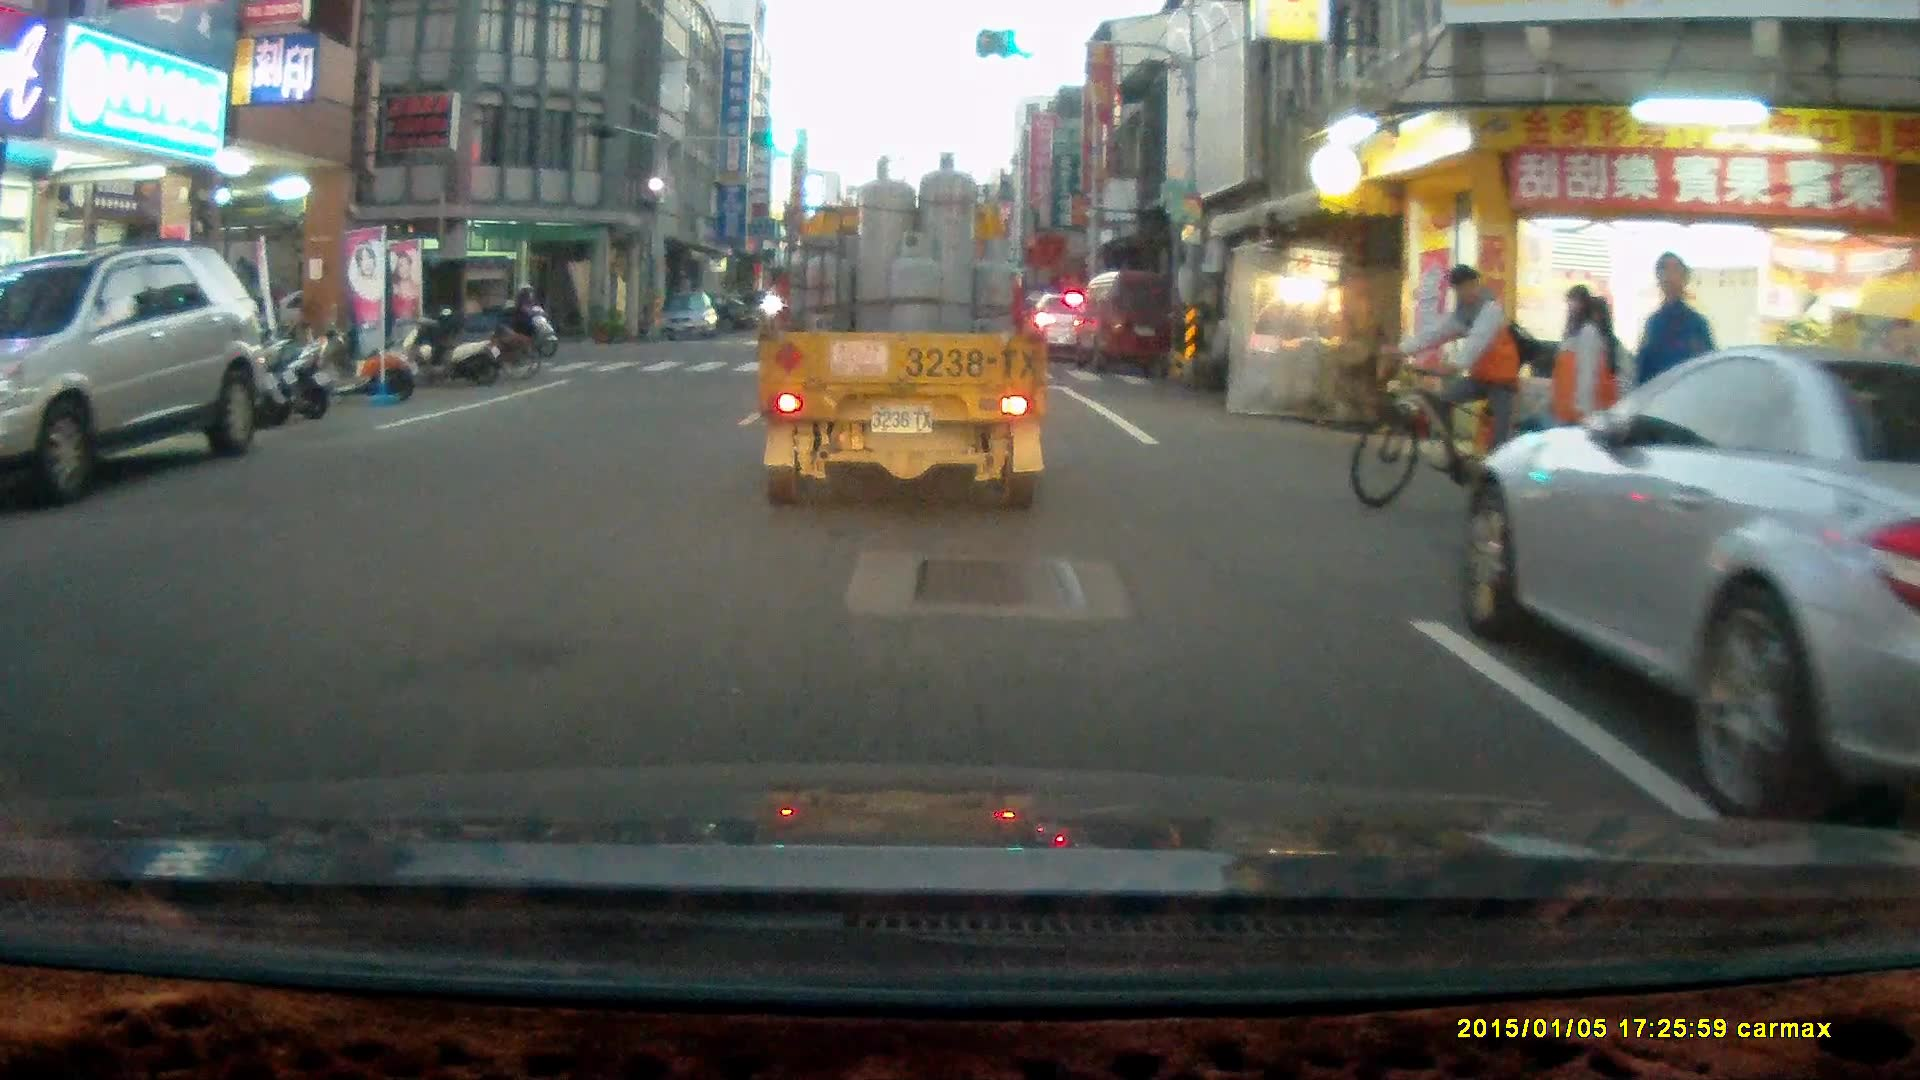pedestrian: (1632, 251, 1715, 531), (1551, 283, 1608, 504)
rider: (1350, 263, 1563, 515), (486, 282, 551, 365)
vehicle: (1459, 343, 1920, 815), (753, 161, 1040, 517), (1, 249, 267, 505), (333, 256, 509, 365), (1079, 267, 1180, 378), (1028, 294, 1095, 360), (655, 291, 720, 348)
